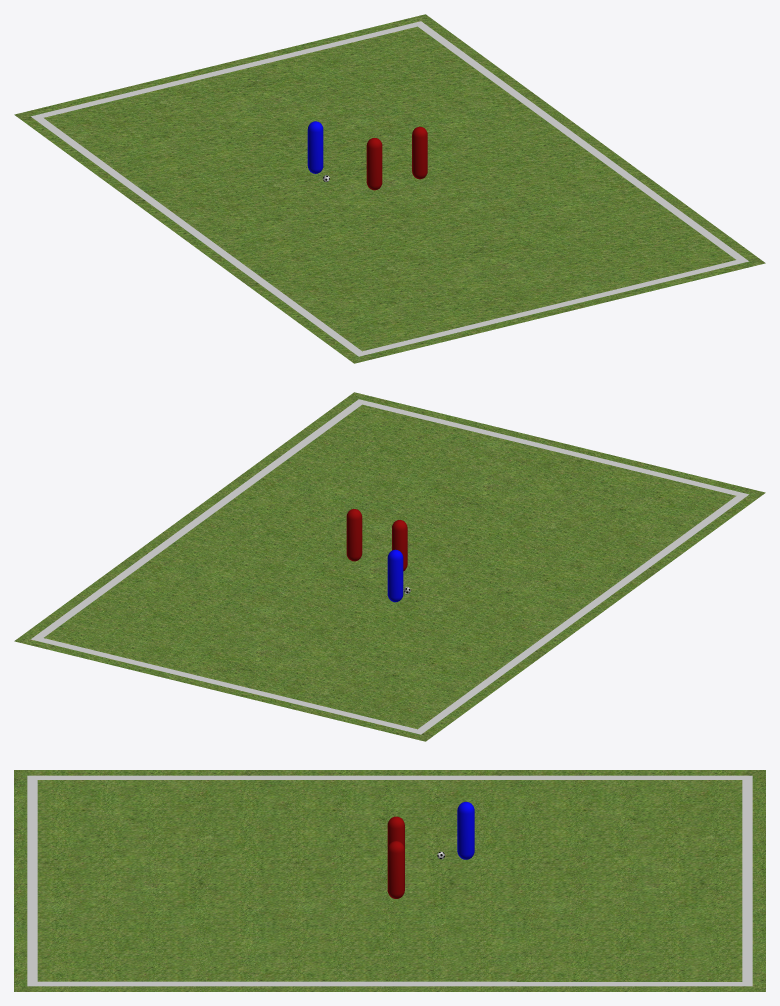
The model's file is Web3D_soccer.obj.
3 views of the same model, one above another, from view 1: azimuth 30°, elevation 25°; view 2: azimuth 150°, elevation 25°; view 3: azimuth 270°, elevation 25° (orthographic). The views are drawn at different scales.
Visible parts, largest first — view 1: field, Stripes, Blue_1, Red_1, Red_2; view 2: field, Stripes, Red_2, Blue_1; view 3: field, Stripes, Blue_1, Red_2, Red_1.
Boxes of the visible parts, left/top/right/bottom form: field: left=14, top=14, right=765, bottom=363; Stripes: left=31, top=21, right=748, bottom=356; Blue_1: left=307, top=121, right=323, bottom=173; Red_1: left=366, top=138, right=382, bottom=190; Red_2: left=412, top=126, right=427, bottom=179; field: left=14, top=392, right=765, bottom=741; Stripes: left=31, top=399, right=748, bottom=734; Red_2: left=346, top=509, right=362, bottom=561; Blue_1: left=387, top=549, right=403, bottom=602; field: left=14, top=770, right=765, bottom=991; Stripes: left=27, top=775, right=752, bottom=986; Blue_1: left=457, top=802, right=474, bottom=859; Red_2: left=387, top=841, right=404, bottom=898; Red_1: left=387, top=816, right=404, bottom=848.
Bounding box in the file's own units: 1517 × 181 × 2172.
6 materials, 1 textured.
